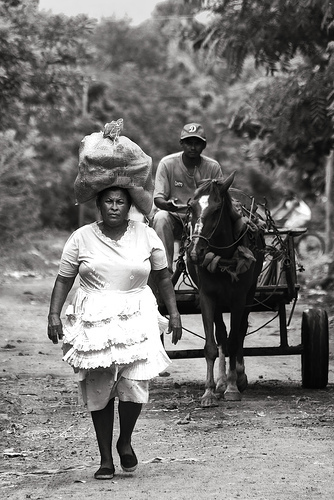horse: (178, 169, 265, 411)
